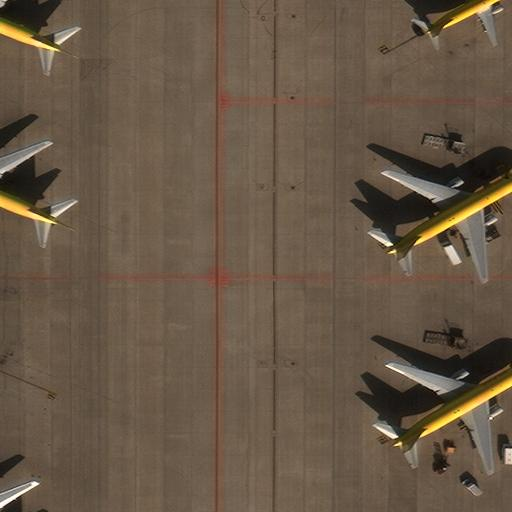Large Civil Transport: (386, 168, 511, 281), (392, 361, 511, 472), (0, 138, 59, 245), (0, 0, 60, 75)
Medium Civil Transport: (425, 0, 511, 44)
